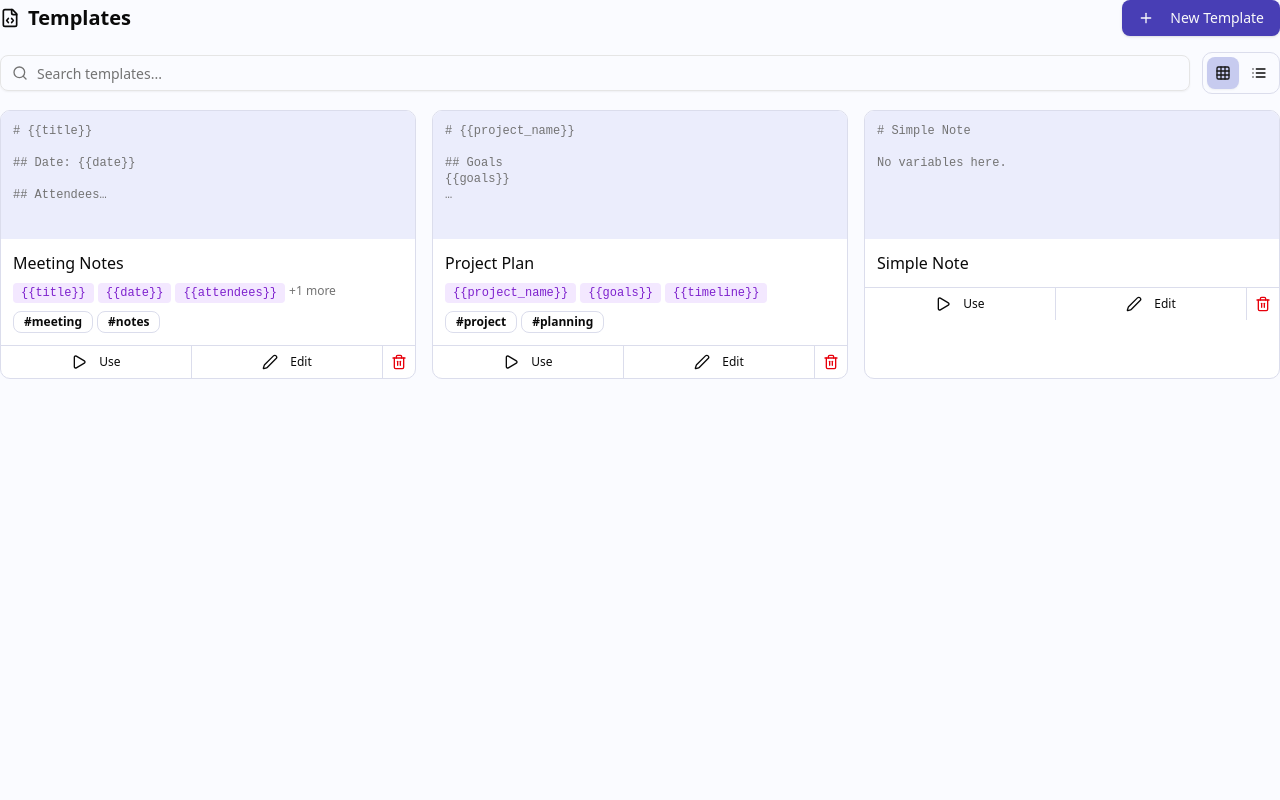
TemplateManager › Edit Template › should open edit dialog when Edit clicked
The width and height of the screenshot is (1280, 800).
Expected: the heading "Meeting Notes" is shown, [13,252,124,274]
Note: Click Edit on first template
Click the button "Edit" below "more" at (286, 362), box [191,346,382,378]
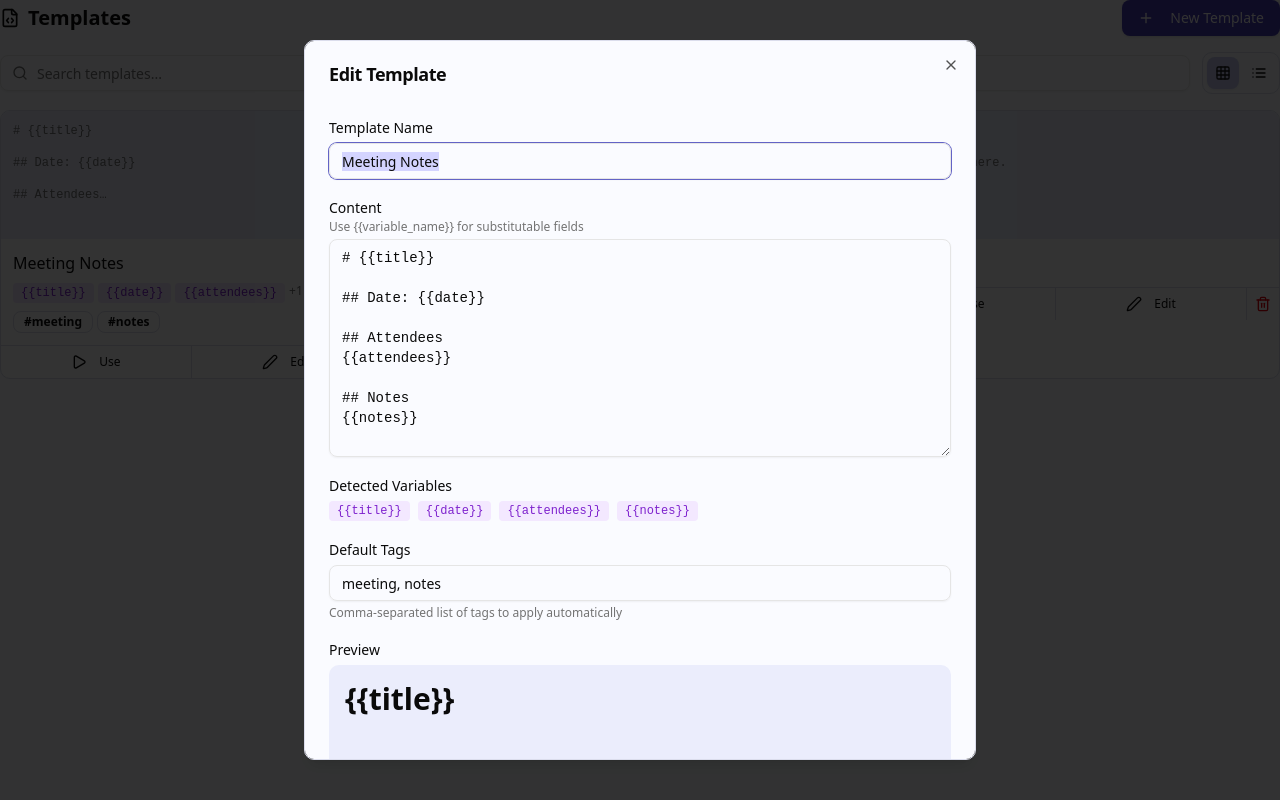
Now the heading "Edit Template" is shown, box [329,62,446,86]
Now the field showing "Meeting Notes" below "Template Name" is shown, box [329,143,951,179]
